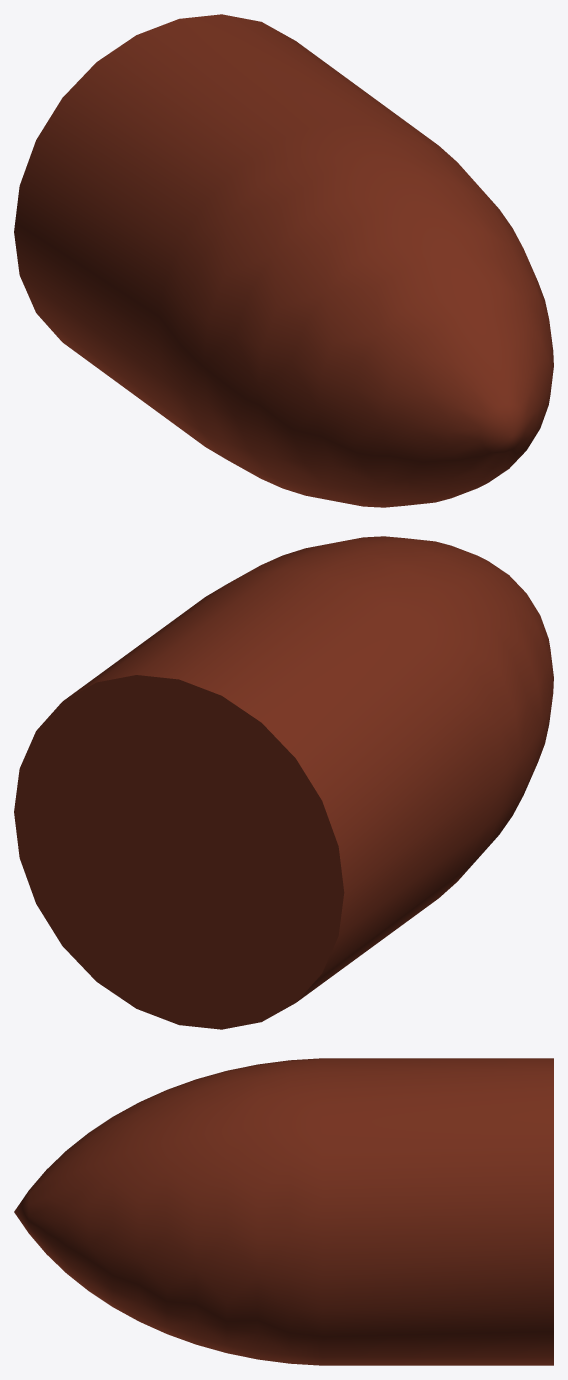
Rendered from BulletHE.obj.
3 views of the same model, one above another, from view 1: azimuth 30°, elevation 25°; view 2: azimuth 150°, elevation 25°; view 3: azimuth 270°, elevation 25° (orthographic). The views are drawn at different scales.
Visible parts, largest first — view 1: obj1; view 2: obj1; view 3: obj1.
Boxes of the visible parts, x1,y1,x2,y2 form: obj1: (14, 14, 553, 507); obj1: (14, 536, 553, 1029); obj1: (14, 1058, 553, 1365).
Bounding box in the file's own units: 0.2035 × 0.2035 × 0.3561.
